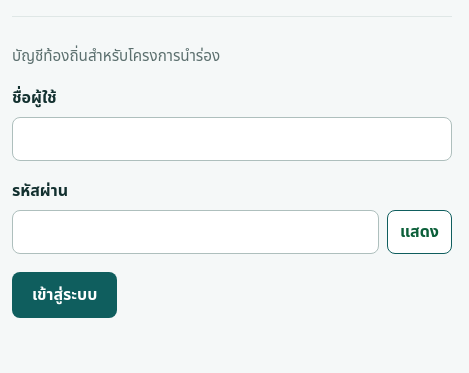
Test: shows a Thai generic error for rejected credentials
In the field labelled "ชื่อผู้ใช้": (232, 139) [12, 117, 452, 161], type "r0-e2e-requestor"
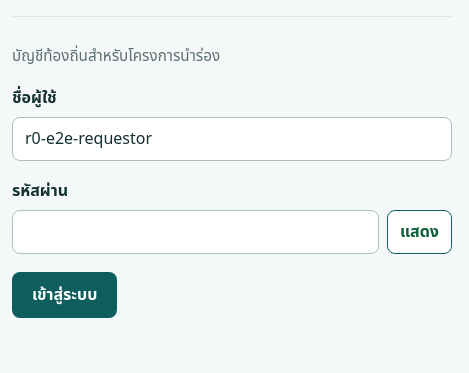
In the password field labelled "รหัสผ่าน": (195, 232) [12, 210, 379, 254], type "wrong-password"
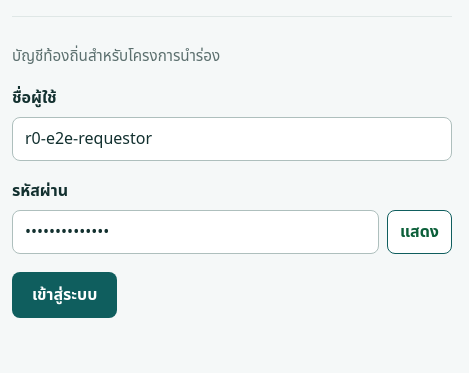
Submit the form "เข้าสู่ระบบ"
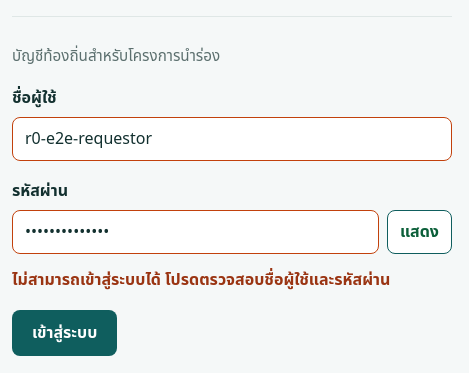
Check: the message reads "ไม่สามารถเข้าสู่ระบบได้ โปรดตรวจสอบชื่อผู้ใช้และรหัสผ่าน", box [12, 268, 390, 292]
